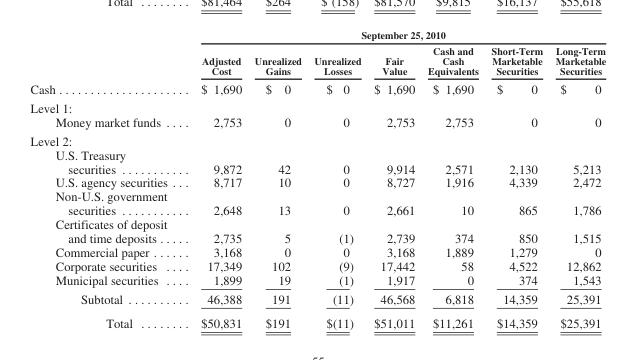table: (29, 29, 605, 329)
table column: (29, 29, 183, 329), (183, 29, 247, 329), (420, 29, 484, 329), (484, 29, 548, 329), (247, 29, 307, 329), (307, 29, 367, 329), (548, 29, 605, 329), (367, 29, 420, 329)
table column header: (29, 29, 605, 78)
table projected row header: (29, 97, 605, 114), (29, 130, 605, 147)
table row: (29, 42, 605, 78), (29, 147, 605, 175), (29, 216, 605, 244), (29, 189, 605, 216), (29, 288, 605, 310), (29, 78, 605, 97), (29, 310, 605, 329), (29, 97, 605, 114), (29, 130, 605, 147), (29, 114, 605, 130), (29, 272, 605, 288), (29, 175, 605, 189), (29, 244, 605, 258), (29, 258, 605, 272), (29, 29, 605, 42)
table spanning cell: (183, 29, 605, 42)
